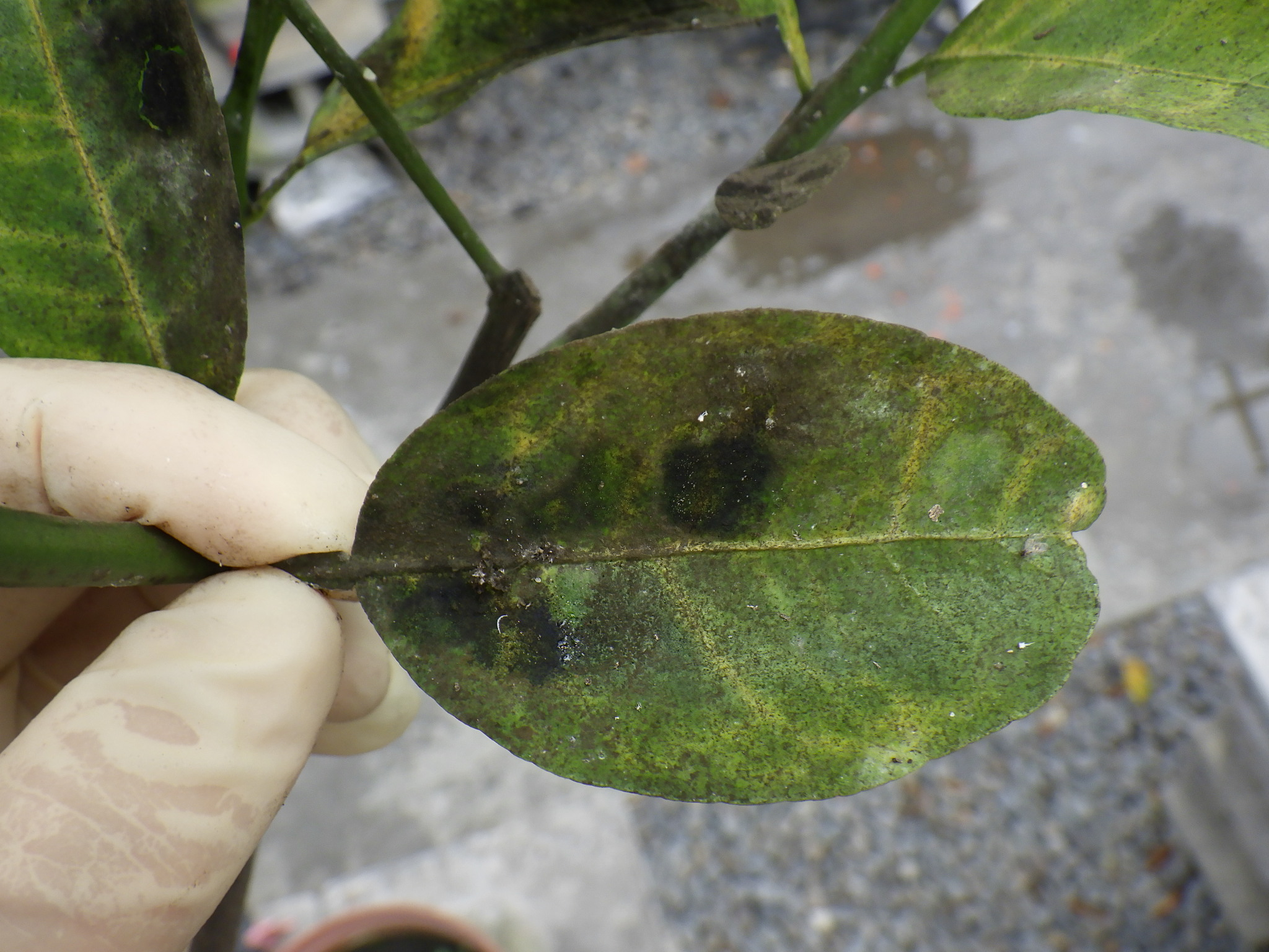Sooty_Mold: (343, 309, 1104, 802)
